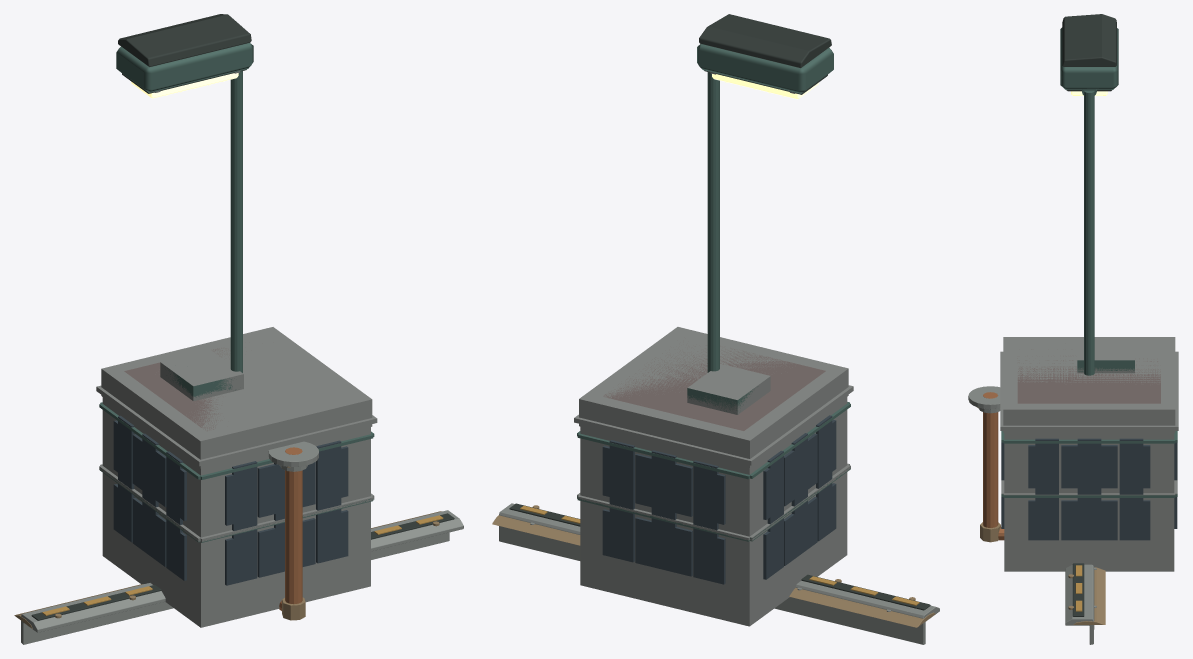
Rendered from utilities-rc30.glb.
The picture shows the model from 3 angles, left to right: view 1: azimuth 30°, elevation 25°; view 2: azimuth 150°, elevation 25°; view 3: azimuth 270°, elevation 25°; orthographic projection. The views are drawn at different scales.
Parts seen in each view (by area): view 1: FarCityOffice / Recessed aggregate, FarCityBrick / Dark inset glazing, RoofLamp / Painted bottle-green steel, FarCityOffice / Dark inset glazing, AnnexNosing / Dulled zinc flange, FarCityService / Dark inset glazing, RoofLamp / Painted cast iron, CeilingFeed / Oxidised copper, FarCityService / Painted bottle-green steel, FarCityBrick / Muted brick, AnnexNosing / Painted cast iron, CeilingFeed / Dulled zinc flange (+2 smaller); view 2: FarCityOffice / Recessed aggregate, FarCityBrick / Dark inset glazing, RoofLamp / Painted bottle-green steel, FarCityBrick / Muted brick, FarCityOffice / Dark inset glazing, AnnexNosing / Dulled zinc flange, FarCityService / Dark inset glazing, RoofLamp / Painted cast iron, FarCityService / Painted bottle-green steel, AnnexCarpetBar / Brass compression joint, AnnexNosing / Painted cast iron, AnnexNosing / Ocher enamel safety inserts; view 3: FarCityOffice / Recessed aggregate, FarCityBrick / Dark inset glazing, RoofLamp / Painted bottle-green steel, FarCityBrick / Muted brick, FarCityService / Dark inset glazing, FarCityOffice / Dark inset glazing, RoofLamp / Painted cast iron, CeilingFeed / Oxidised copper, FarCityService / Painted bottle-green steel, AnnexNosing / Dulled zinc flange, AnnexCarpetBar / Brass compression joint, CeilingFeed / Dulled zinc flange (+1 smaller).
Boxes of the visible parts, box(x1,y1,x2,y2) form: FarCityOffice / Recessed aggregate: box(96, 327, 377, 627); FarCityBrick / Dark inset glazing: box(113, 420, 348, 585); RoofLamp / Painted bottle-green steel: box(116, 43, 253, 372); FarCityOffice / Dark inset glazing: box(118, 424, 341, 583); AnnexNosing / Dulled zinc flange: box(21, 510, 463, 644); FarCityService / Dark inset glazing: box(118, 415, 341, 538); RoofLamp / Painted cast iron: box(118, 14, 251, 93); CeilingFeed / Oxidised copper: box(279, 447, 302, 610); FarCityService / Painted bottle-green steel: box(99, 367, 374, 542); FarCityBrick / Muted brick: box(124, 348, 230, 431); AnnexNosing / Painted cast iron: box(31, 513, 454, 620); CeilingFeed / Dulled zinc flange: box(268, 441, 318, 471); FarCityOffice / Recessed aggregate: box(574, 327, 853, 626); FarCityBrick / Dark inset glazing: box(602, 420, 836, 584); RoofLamp / Painted bottle-green steel: box(697, 44, 833, 372); FarCityBrick / Muted brick: box(603, 345, 825, 430); FarCityOffice / Dark inset glazing: box(609, 424, 831, 582); AnnexNosing / Dulled zinc flange: box(499, 503, 939, 644); FarCityService / Dark inset glazing: box(609, 415, 832, 537); RoofLamp / Painted cast iron: box(699, 14, 831, 94); FarCityService / Painted bottle-green steel: box(577, 386, 850, 541); AnnexCarpetBar / Brass compression joint: box(492, 515, 935, 627); AnnexNosing / Painted cast iron: box(509, 503, 930, 610); AnnexNosing / Ocher enamel safety inserts: box(520, 505, 919, 605); FarCityOffice / Recessed aggregate: box(1000, 337, 1178, 571); FarCityBrick / Dark inset glazing: box(1001, 442, 1177, 540); RoofLamp / Painted bottle-green steel: box(1060, 27, 1118, 375); FarCityBrick / Muted brick: box(1017, 349, 1160, 403); FarCityService / Dark inset glazing: box(1001, 438, 1177, 501); FarCityOffice / Dark inset glazing: box(1035, 469, 1143, 540); RoofLamp / Painted cast iron: box(1062, 14, 1116, 91); CeilingFeed / Oxidised copper: box(983, 392, 1004, 540); FarCityService / Painted bottle-green steel: box(1001, 360, 1177, 497); AnnexNosing / Dulled zinc flange: box(1065, 564, 1094, 644); AnnexCarpetBar / Brass compression joint: box(1073, 567, 1105, 624); CeilingFeed / Dulled zinc flange: box(968, 386, 1000, 413).
Size of the model in its own units: 2.39 by 3.07 by 1.17.
